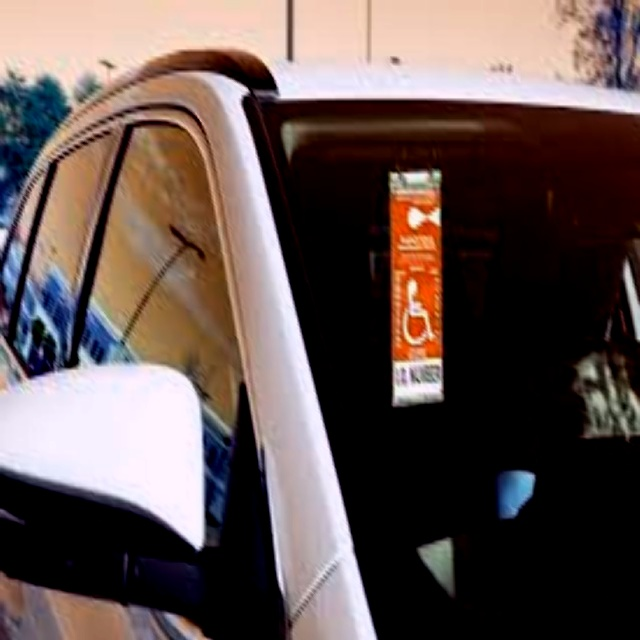ISA: (402, 278, 434, 343)
